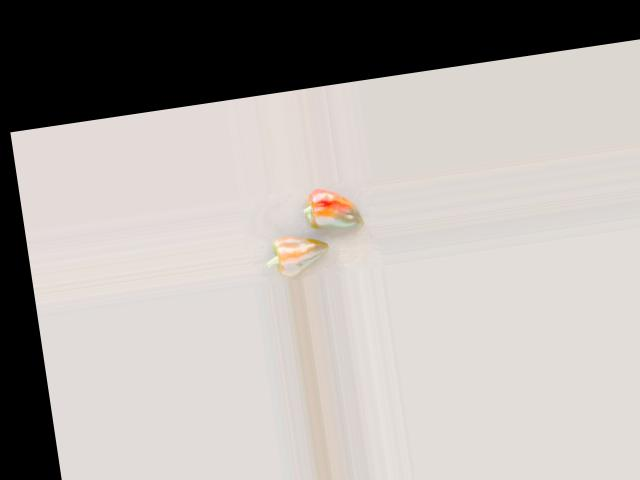bell_pepper: (279, 180, 368, 240)
